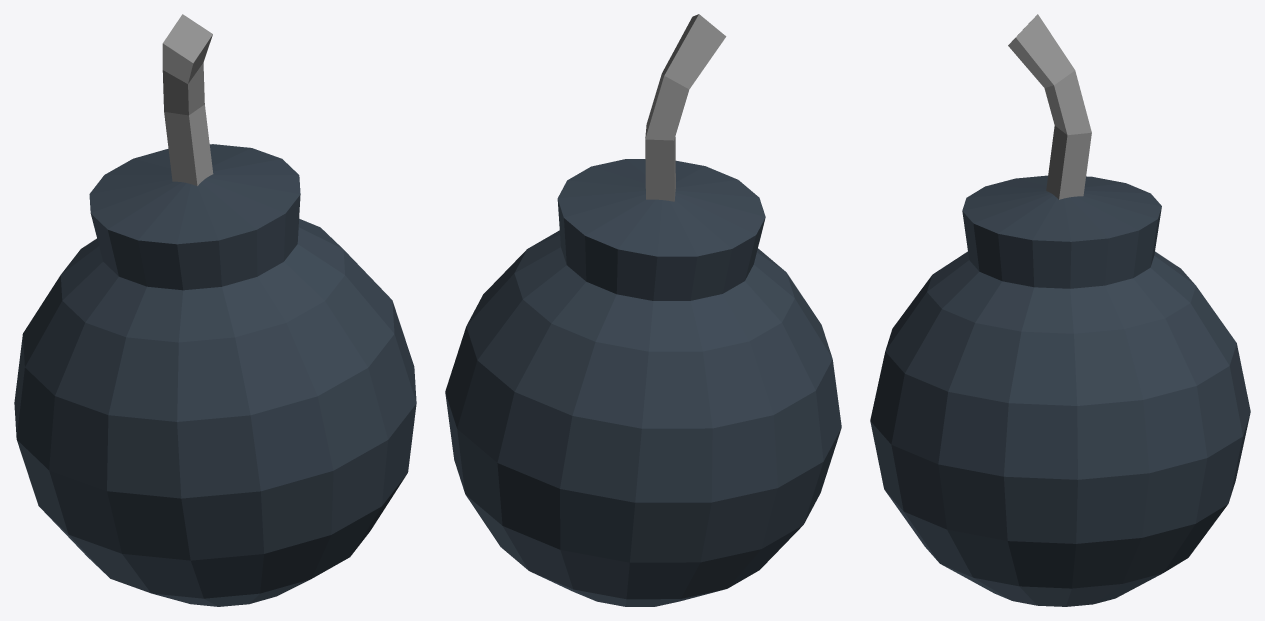
File: bomb.fbx
3 renders of one model, left to right at view 1: azimuth 30°, elevation 25°; view 2: azimuth 150°, elevation 25°; view 3: azimuth 270°, elevation 25°, orthographic. The views are drawn at different scales.
Visible parts, largest first — view 1: bomb, bomb_wick; view 2: bomb, bomb_wick; view 3: bomb, bomb_wick.
Part boxes in pixels (x1,y1,x2,y2): bomb: [14, 144, 416, 606]; bomb_wick: [162, 14, 213, 185]; bomb: [445, 159, 841, 606]; bomb_wick: [645, 14, 726, 201]; bomb: [870, 175, 1250, 606]; bomb_wick: [1008, 14, 1091, 199].
Bounding box in the file's own units: 52.83 × 85.25 × 53.07.
Materials: 2 (1 with a texture image).
